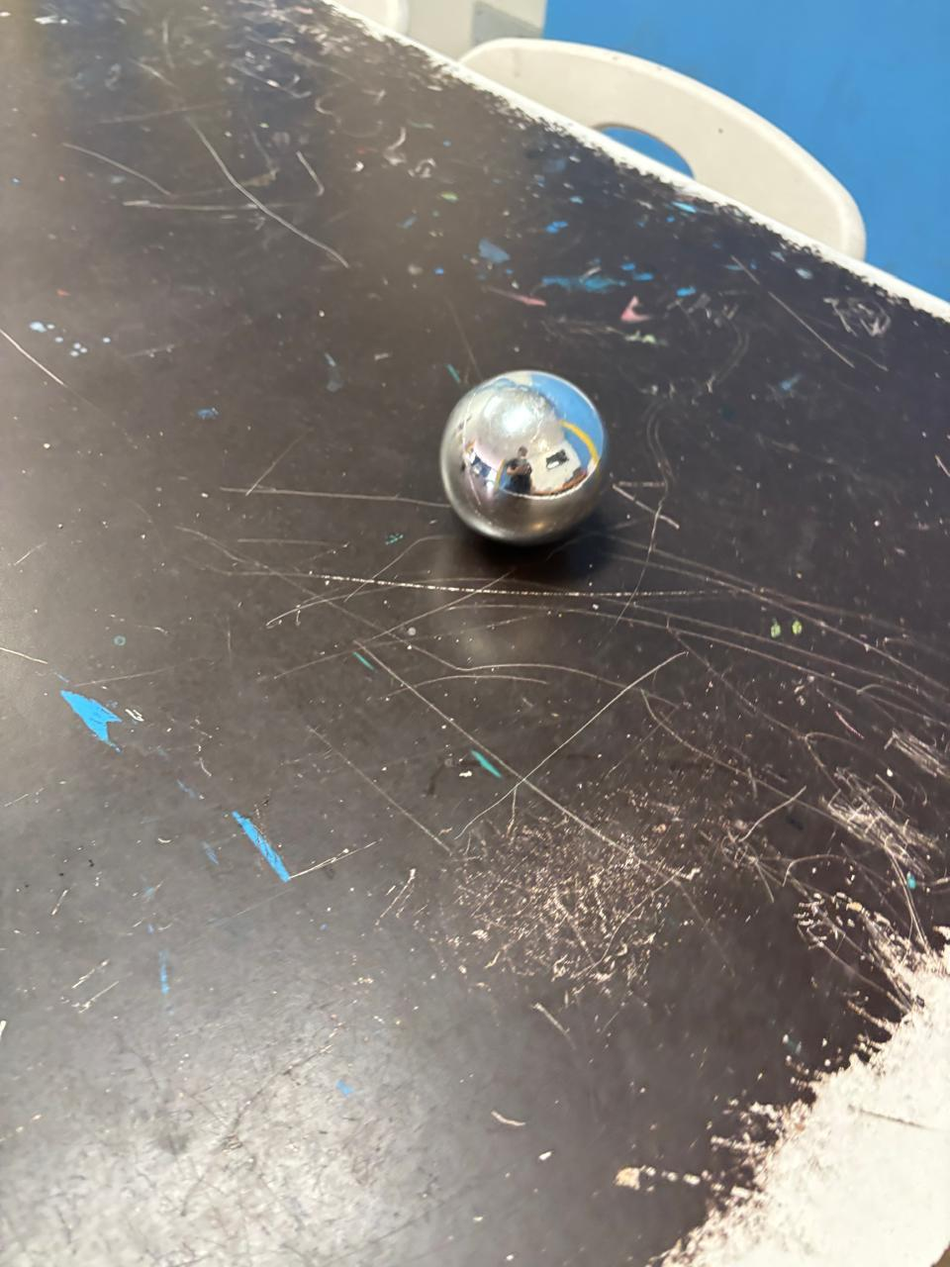steelball: (437, 366, 611, 546)
